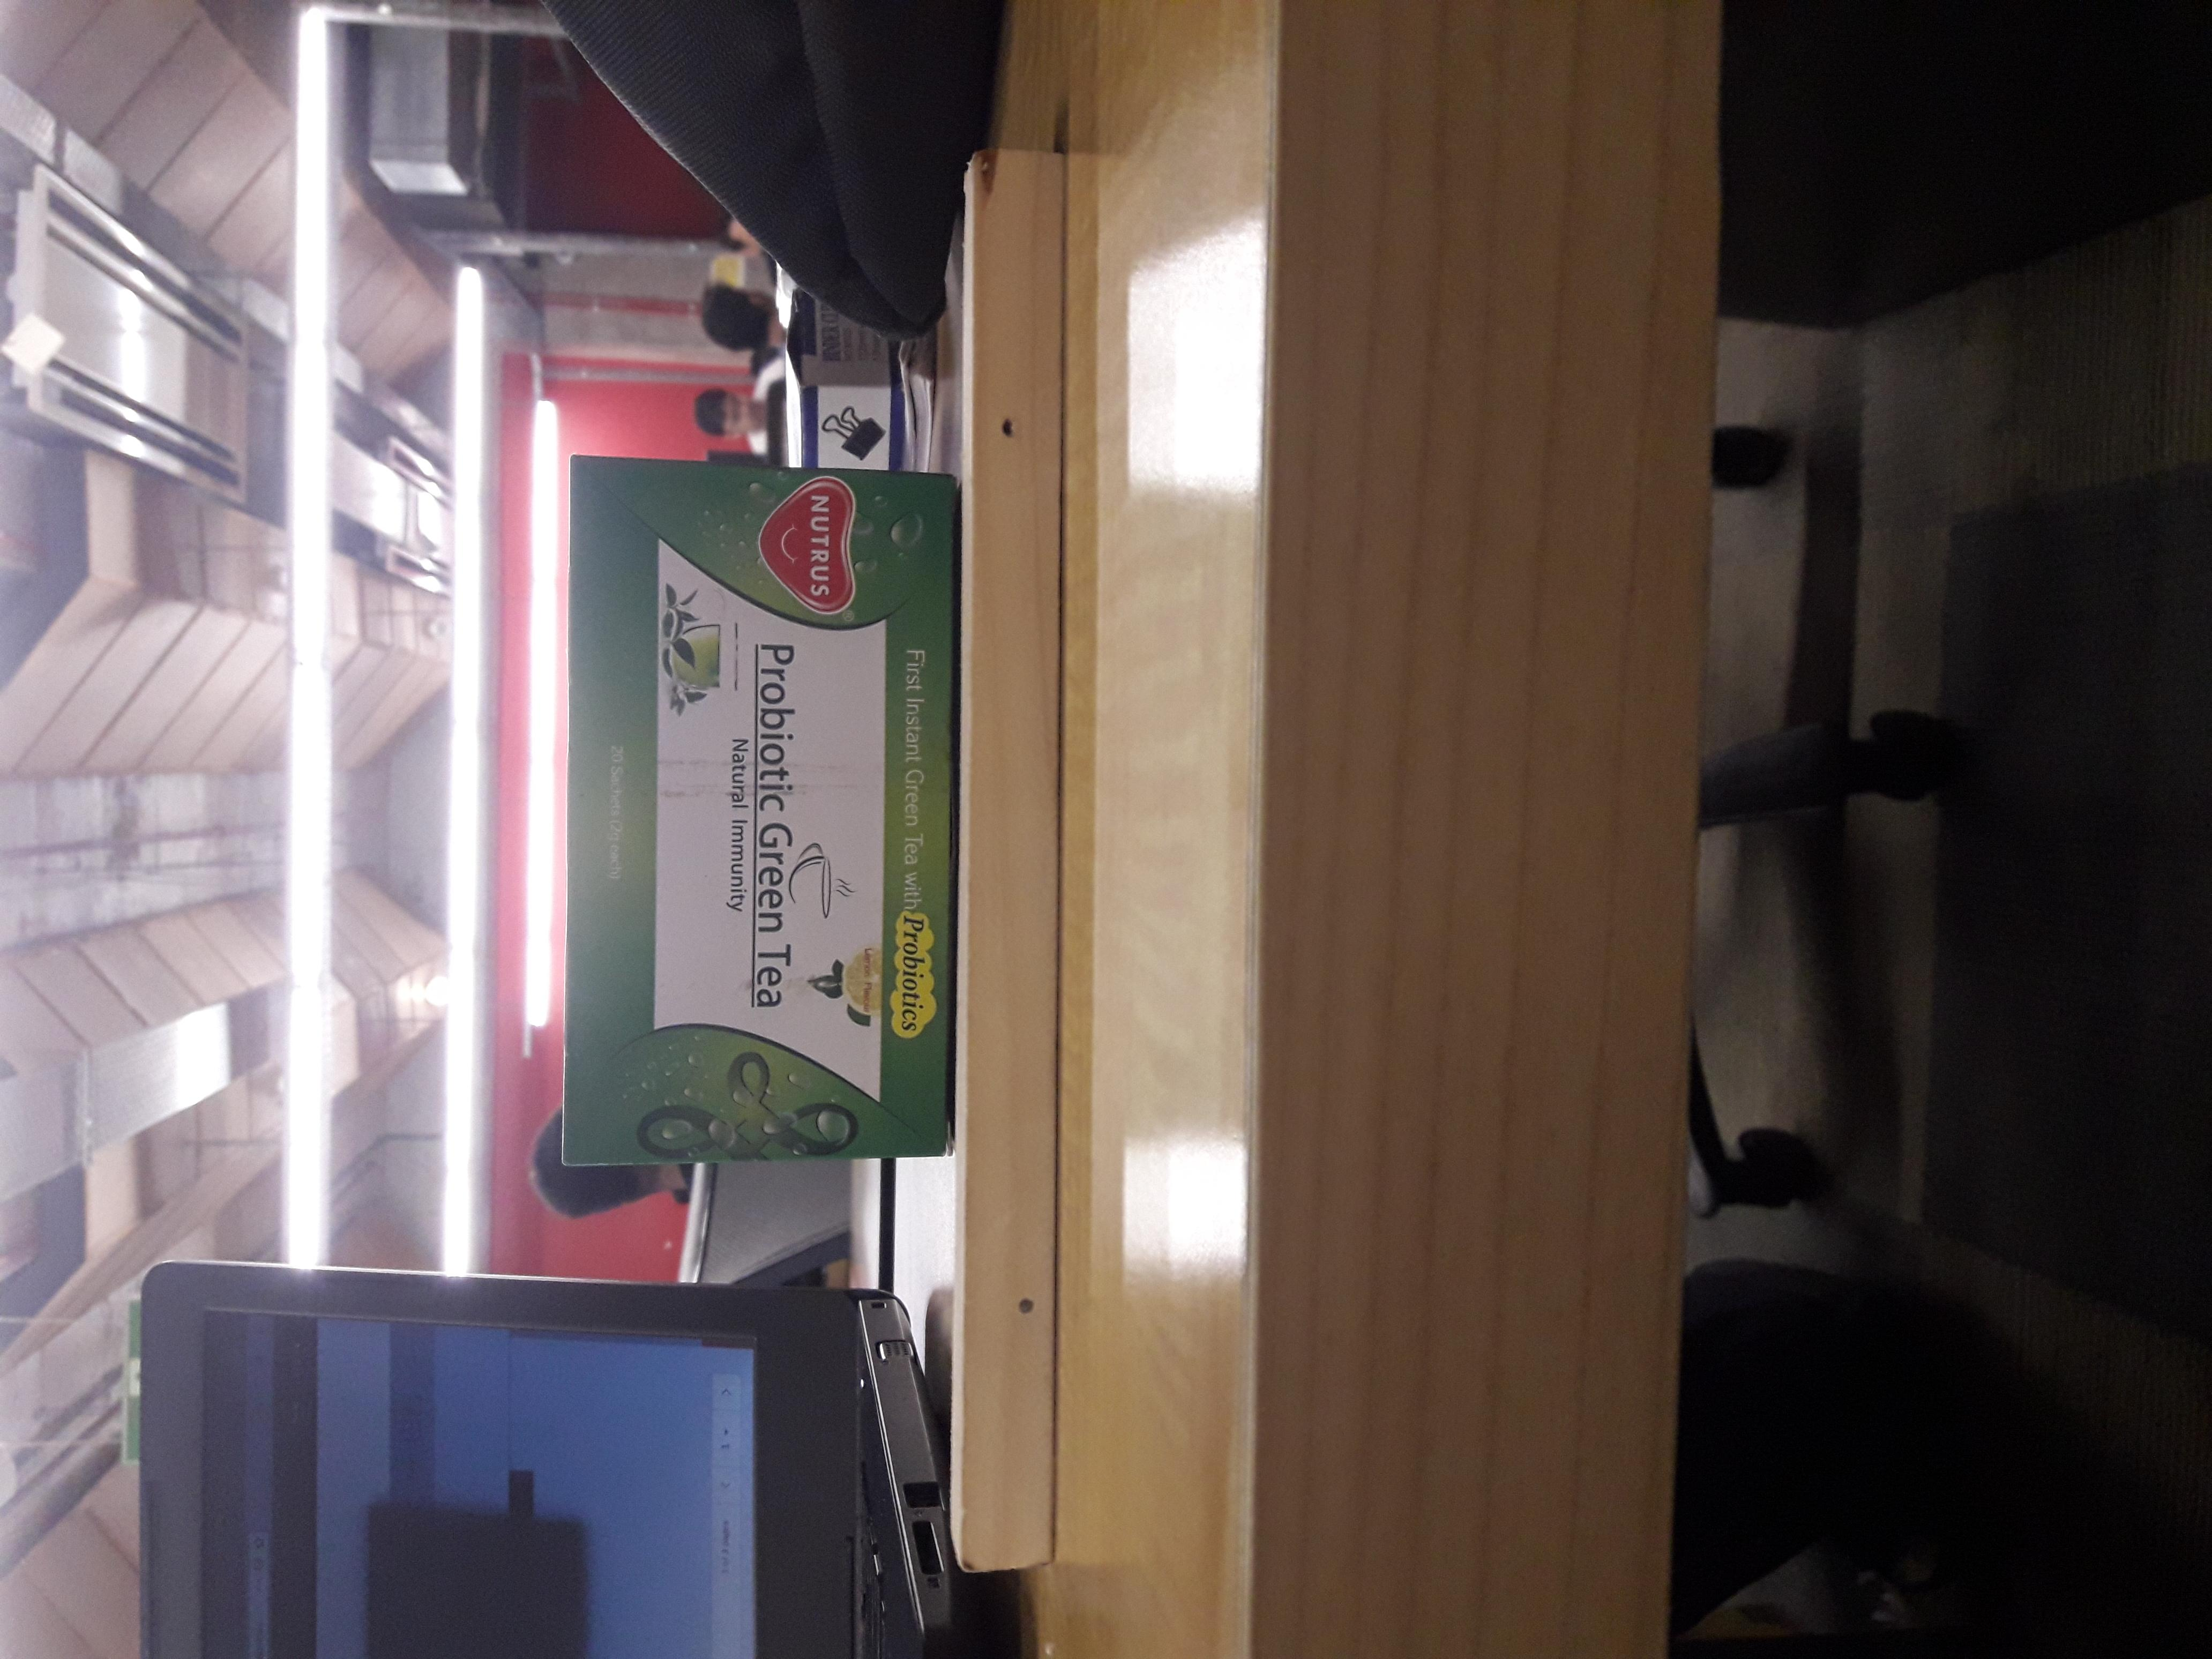object: (564, 457, 961, 1161)
reference: (961, 152, 1068, 1572)
